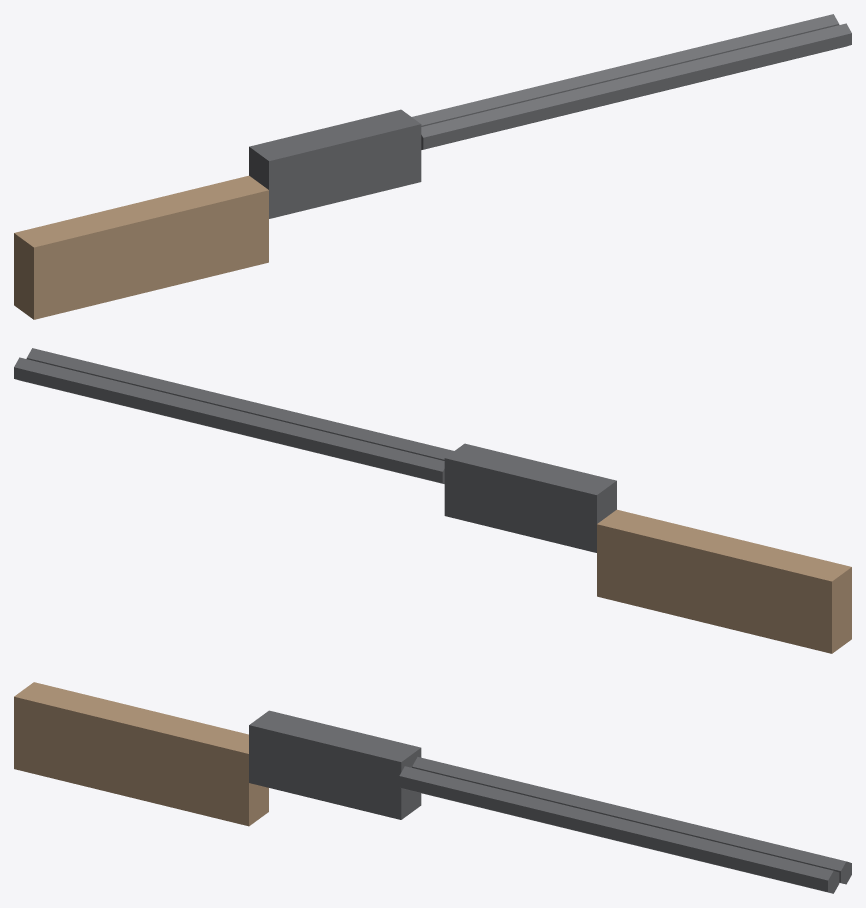
File: held_weapon_doublebarrel.glb
3 renders of one model, top to bottom at view 1: azimuth 30°, elevation 25°; view 2: azimuth 150°, elevation 25°; view 3: azimuth 330°, elevation 25°, orthographic.
Parts seen in each view (by area): view 1: held_weapon_doublebarrel; view 2: held_weapon_doublebarrel; view 3: held_weapon_doublebarrel.
Boxes of the visible parts, <box> form: held_weapon_doublebarrel: <box>14,14,851,319</box>; held_weapon_doublebarrel: <box>14,348,851,653</box>; held_weapon_doublebarrel: <box>14,682,851,893</box>.
Bounding box in the file's own units: 1.18 × 0.14 × 0.0597.
